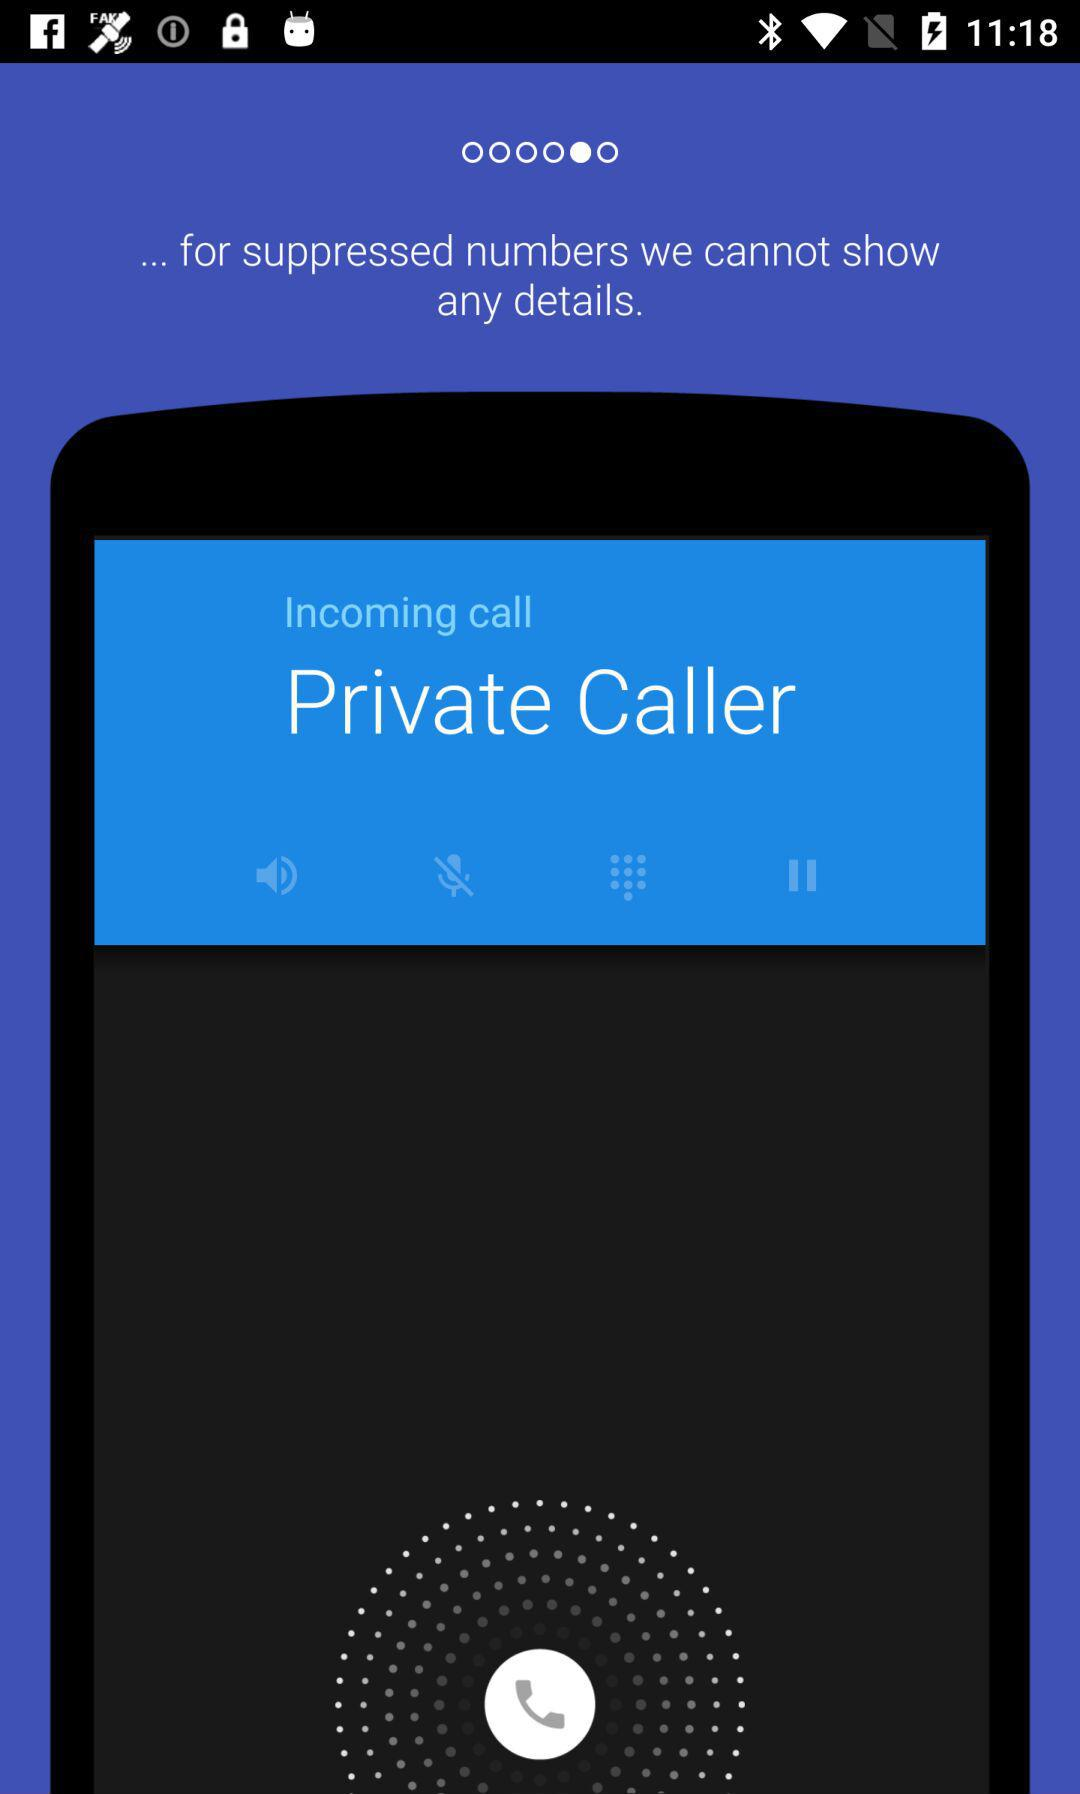Image: (50, 390, 1031, 1794)
PageIndicator: (461, 141, 620, 165)
Text: (143, 232, 942, 325)
UpperTaskBar: (1, 1, 1080, 64)
